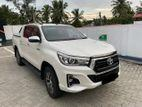car: (13, 23, 121, 99)
